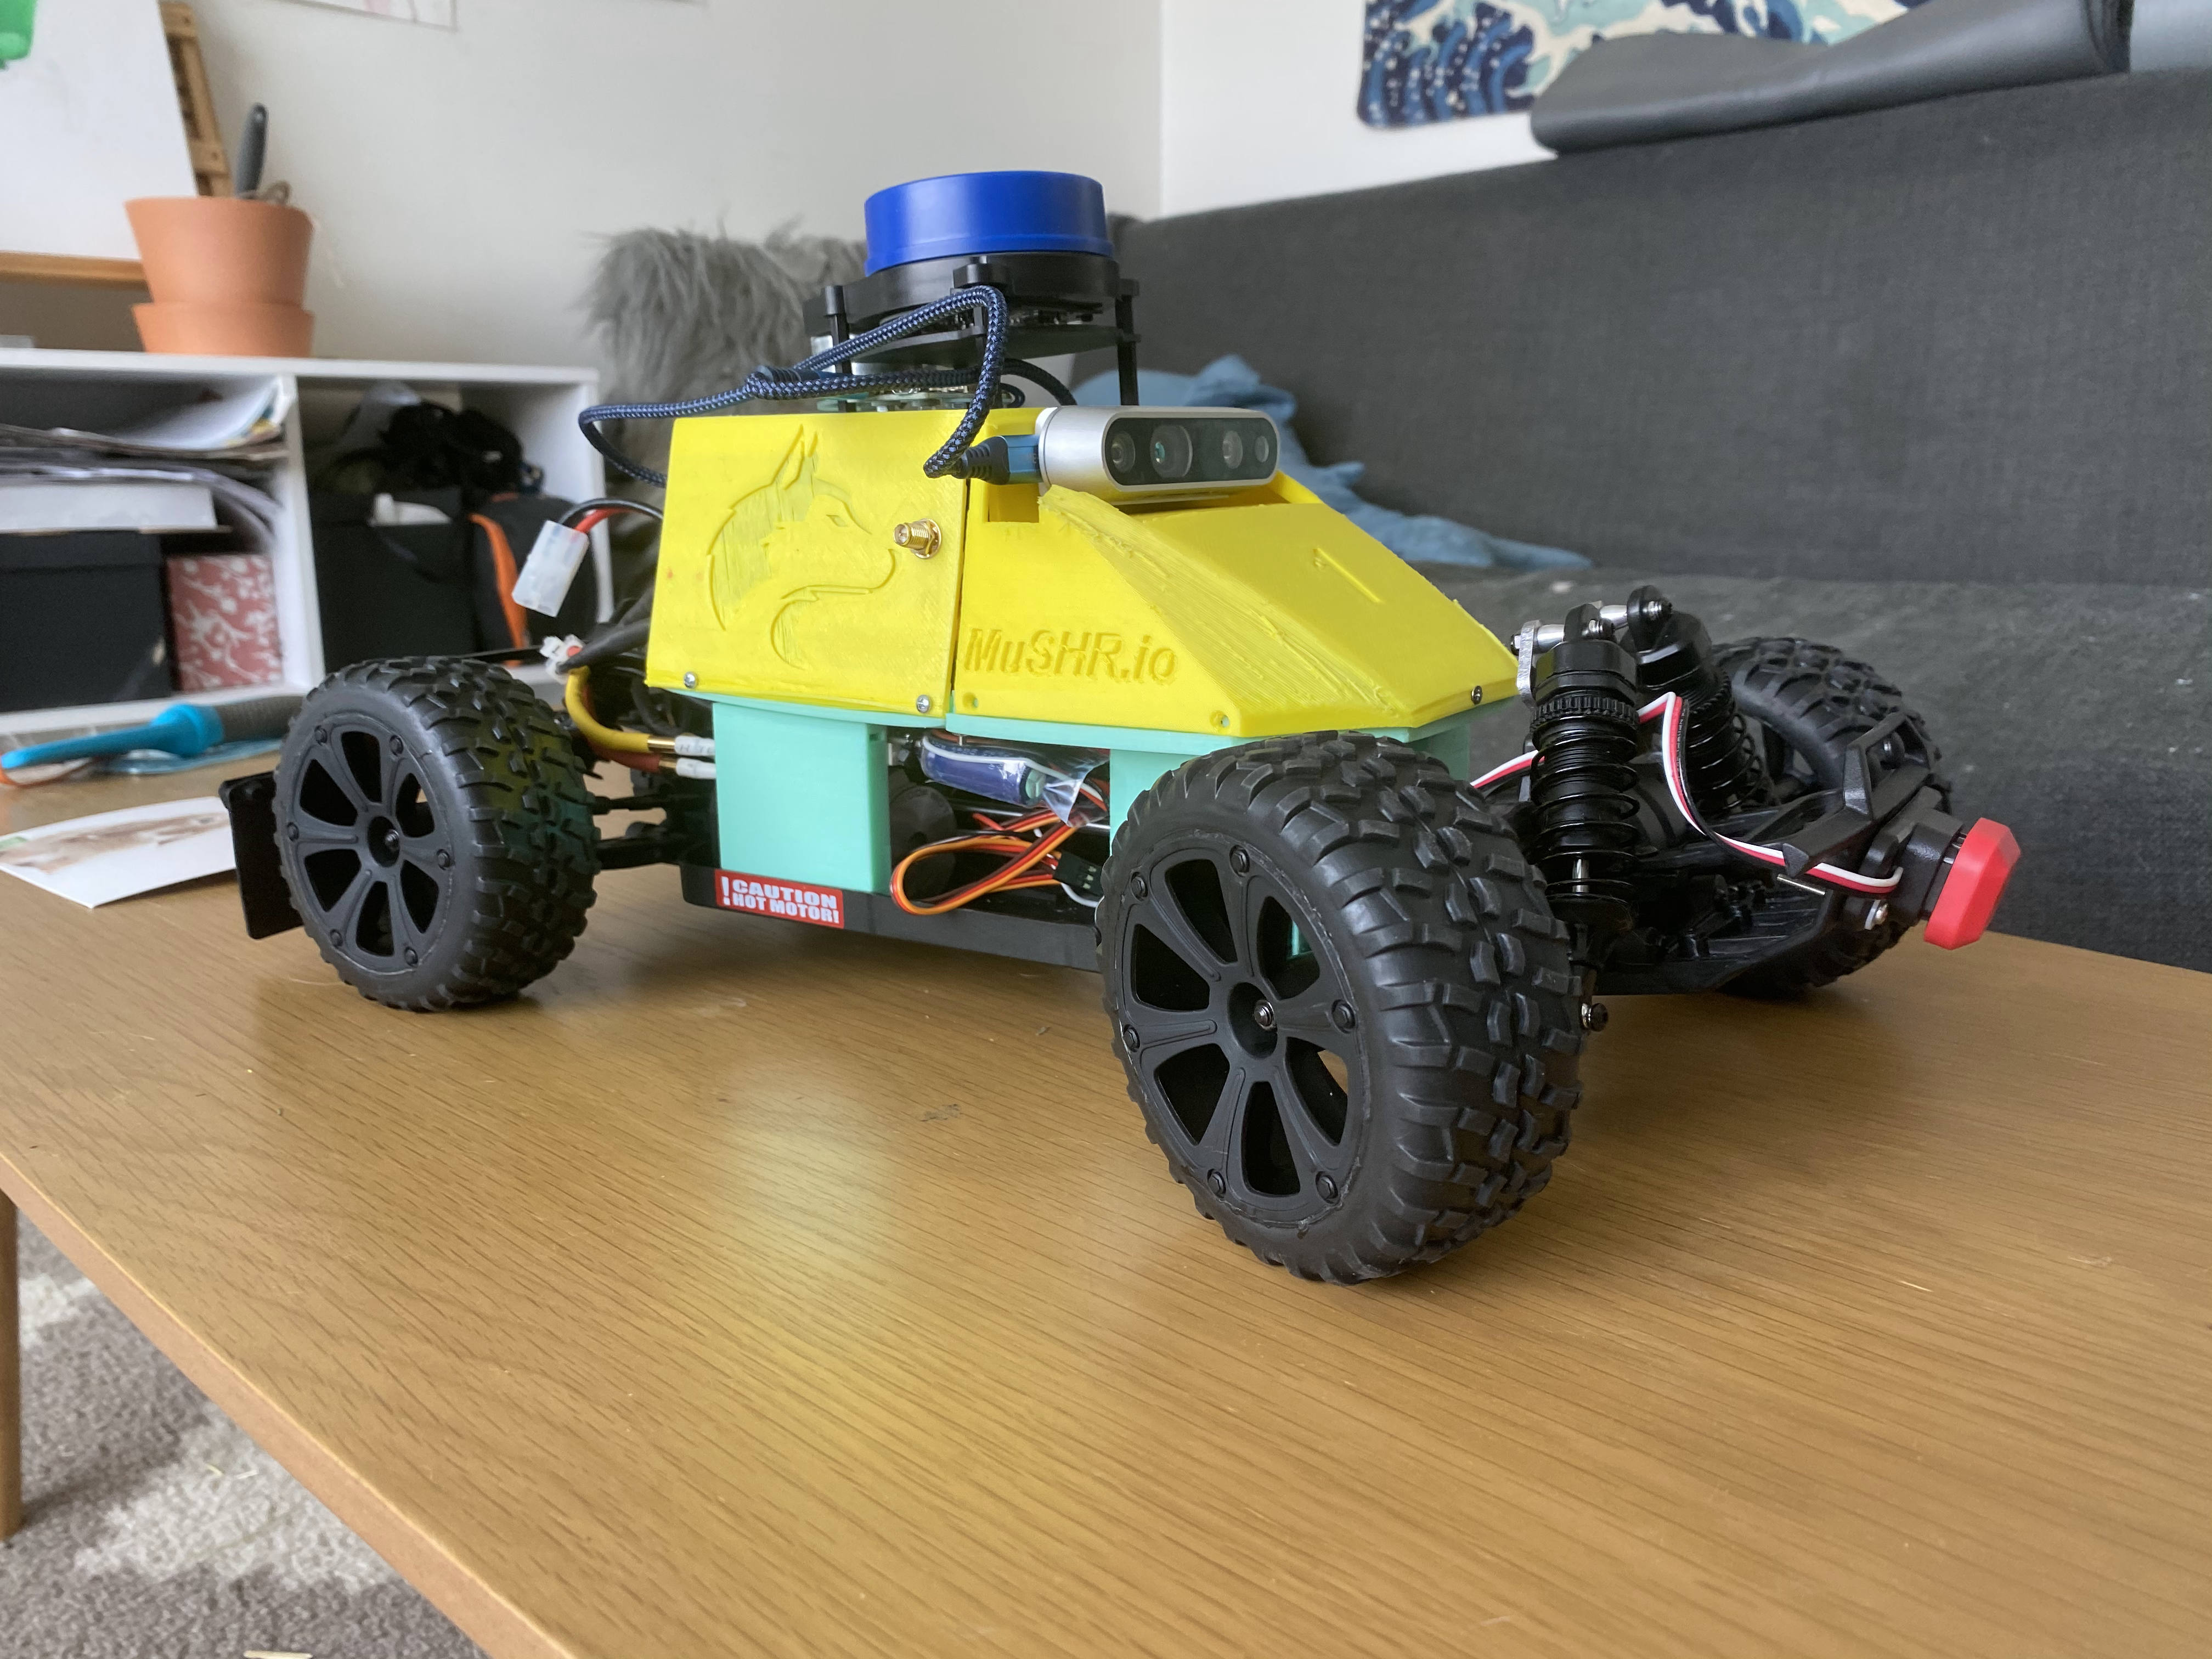mushr_car: (209, 167, 2020, 1302)
